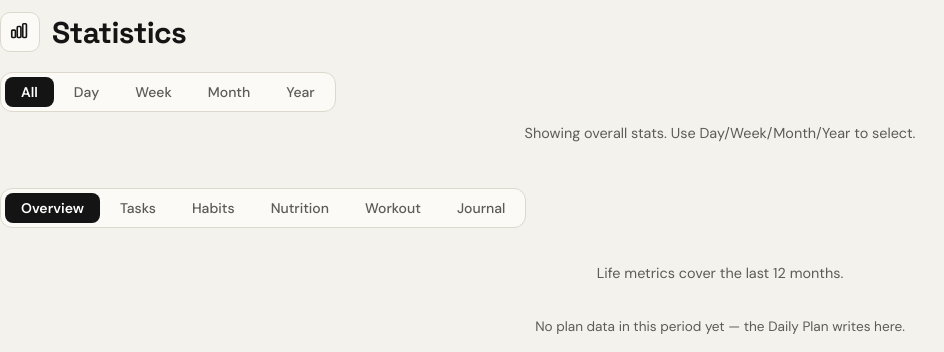
Test: Statistics life-metric sections (guest) › sections show a quiet empty state without plan data
Click the tab "Workout" at (393, 208), box x1=349 y1=193 x2=437 y2=223
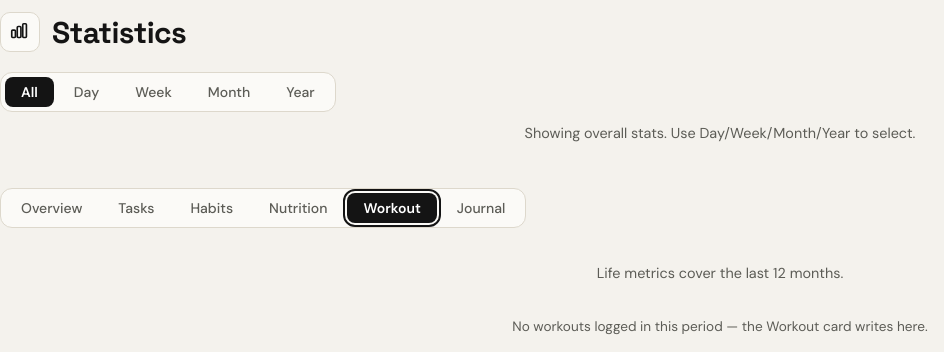
Expected: the text "No workouts logged in this period" is shown, x1=512 y1=318 x2=928 y2=335
